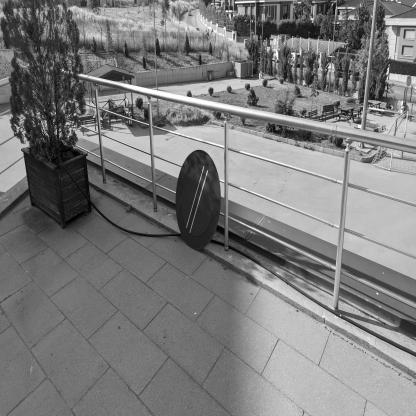No Waiting: (176, 150, 222, 250)
